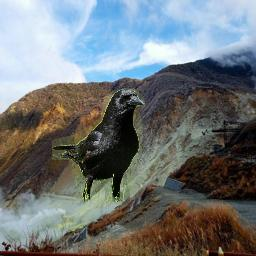Crow: (52, 88, 145, 202)
